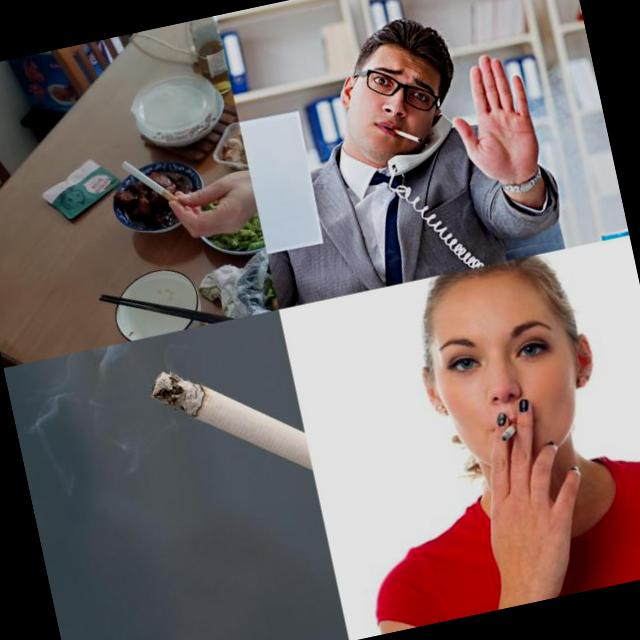cigarette: (142, 343, 332, 590), (120, 150, 184, 216), (392, 123, 422, 147), (497, 421, 522, 442)
